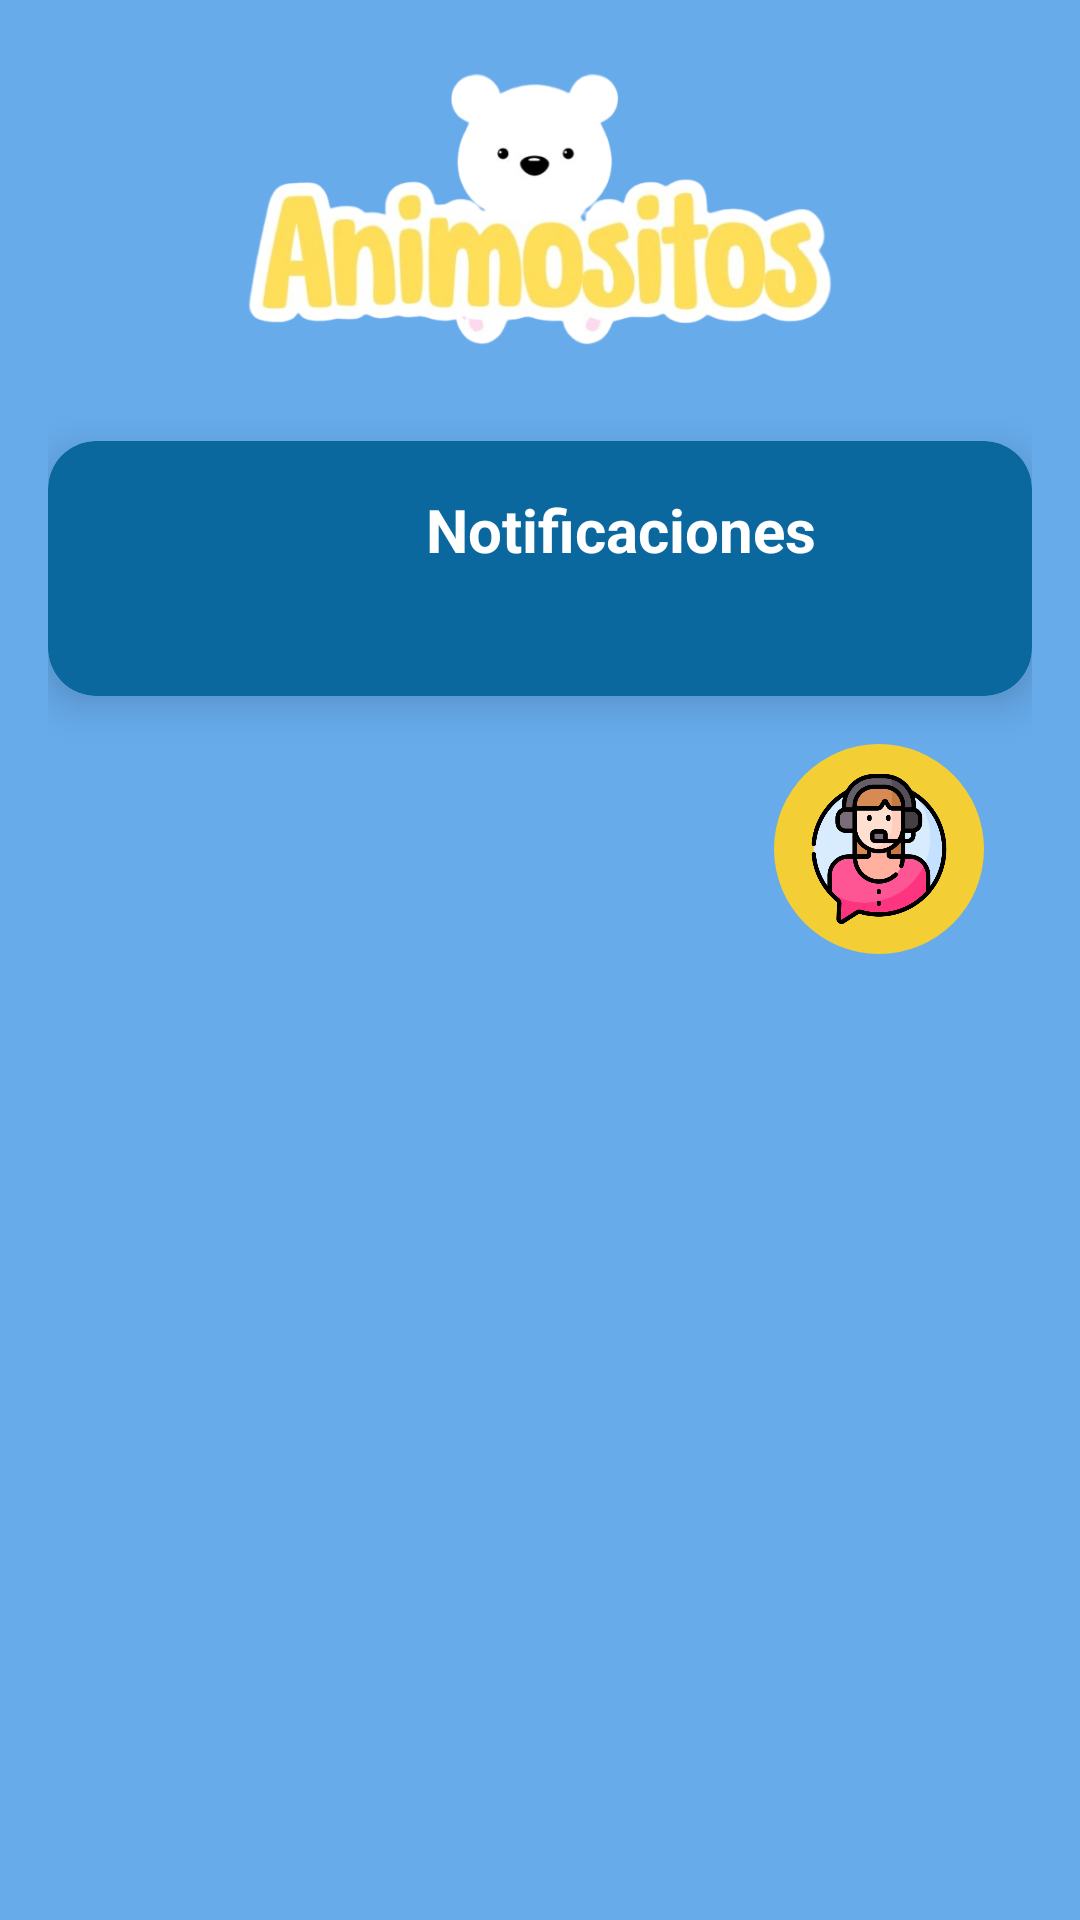

Screen size 1080 × 1920. Icon name, then its center in pixels as (x,y):
Icono de usuario: (879,849)
